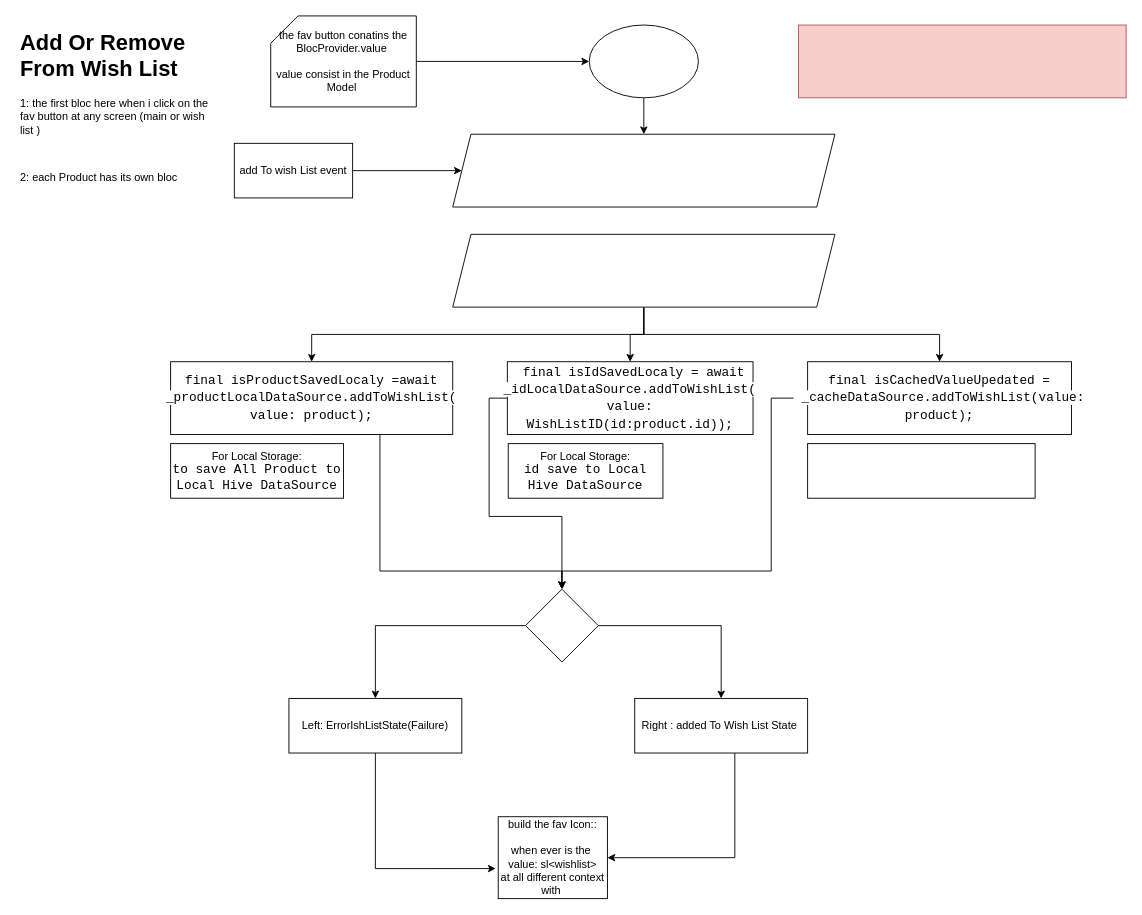
Some shapes in this 1142 by 915 pixel diagram are drawn without their labels. The shapes that lost their labels are listed below. From the top down, each one's centre as x and y in pixels, then its label:
At [643,61]: "clisk add to wishlist fav button".
At [962,61]: "The First Bloc".
At [643,170]: "context.read<WishlistBloc>() .add(AddProductToWishListEvent(product));".
At [643,270]: "addWishListIdUseCase( params: WishListParams(product: event.product));".
At [921,470]: "For Cache: 1- add Product To WishList 2- Update product.iswishlisted".
